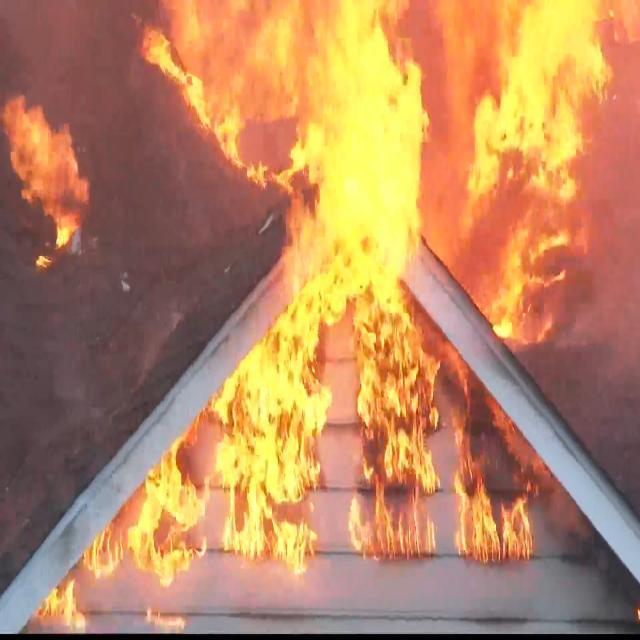Fire: (150, 0, 640, 185), (463, 0, 640, 323), (305, 173, 438, 557), (452, 348, 550, 557), (231, 376, 310, 550), (0, 108, 91, 249), (92, 468, 210, 576), (43, 591, 85, 636)
Smoke: (2, 0, 218, 338)
